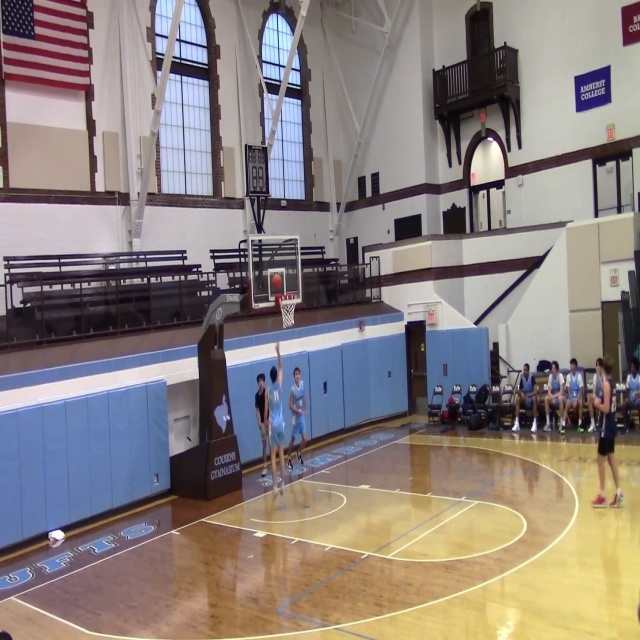Basketball: (271, 273, 282, 292)
